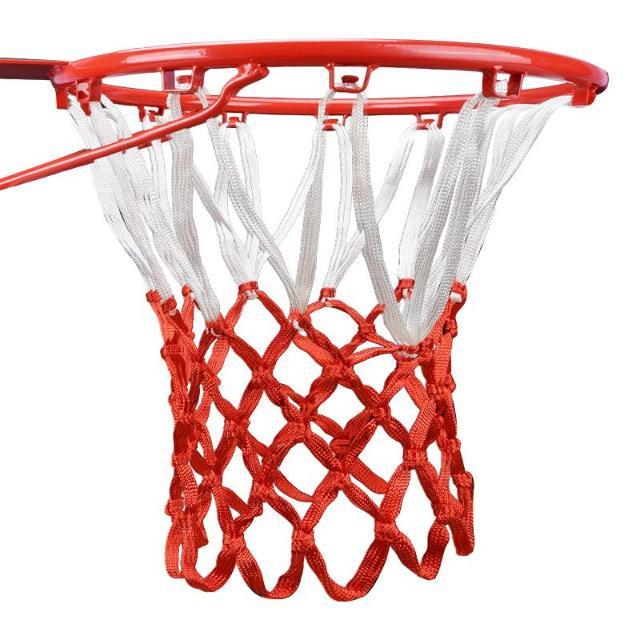rim: (49, 40, 610, 606)
